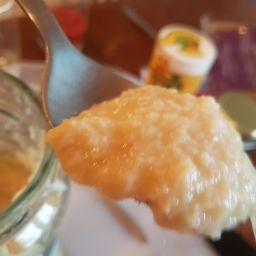Ginger garlic paste: (40, 73, 256, 245), (3, 82, 176, 234)
